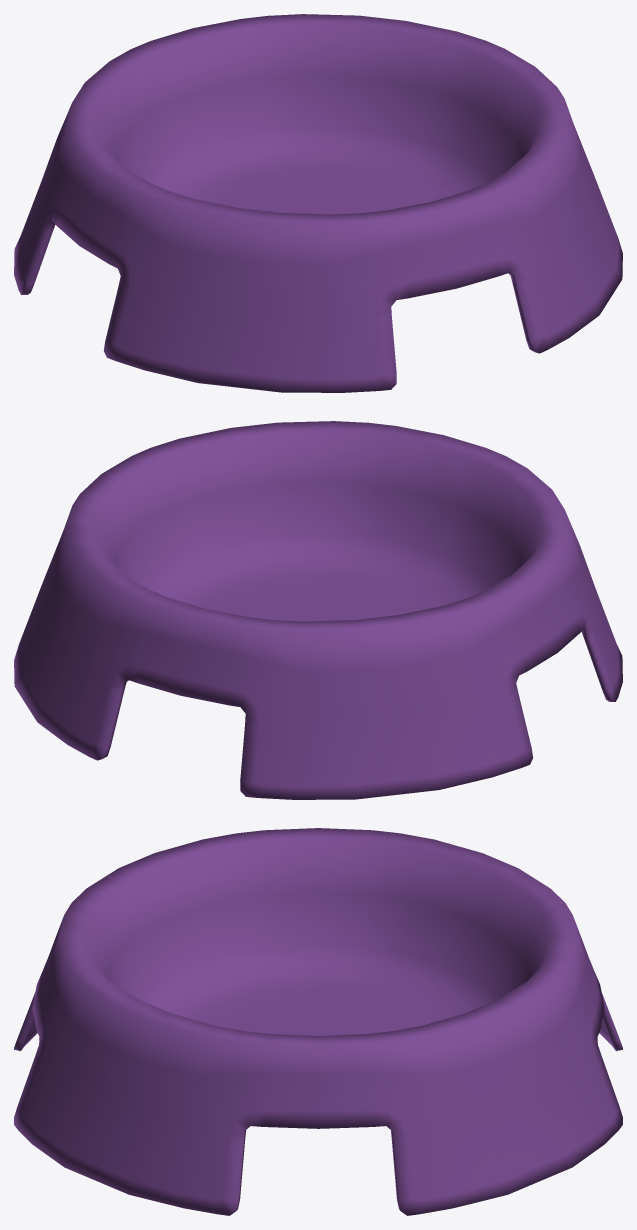
Rendered from Taca.fbx.
3 views of the same model, one above another, from view 1: azimuth 30°, elevation 25°; view 2: azimuth 150°, elevation 25°; view 3: azimuth 270°, elevation 25° (orthographic). The views are drawn at different scales.
Parts seen in each view (by area): view 1: Bowl_low; view 2: Bowl_low; view 3: Bowl_low.
Boxes of the visible parts, <box> form: Bowl_low: <box>14,14,622,392</box>; Bowl_low: <box>14,421,622,799</box>; Bowl_low: <box>14,828,622,1215</box>.
Size of the model in its own units: 44.24 by 12.06 by 44.24.
